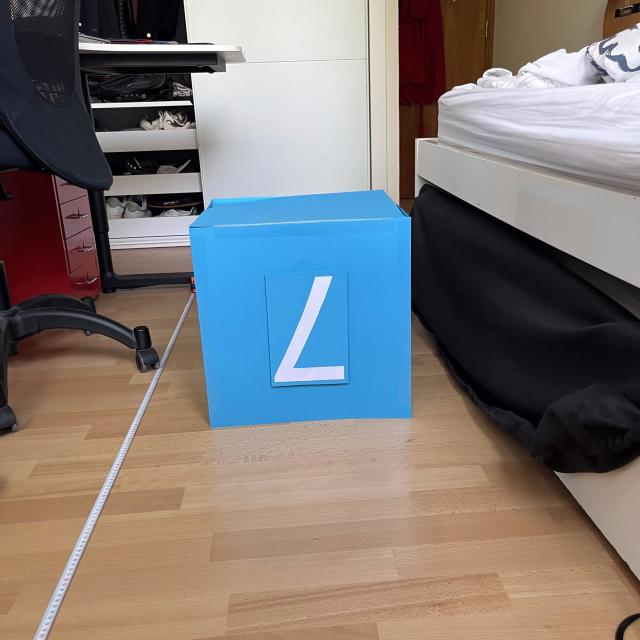box: (184, 186, 417, 430)
